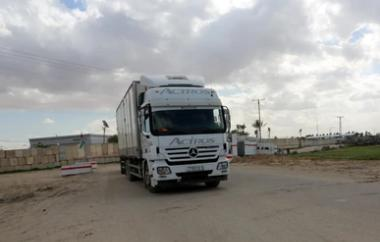vehicle: (115, 75, 230, 192)
